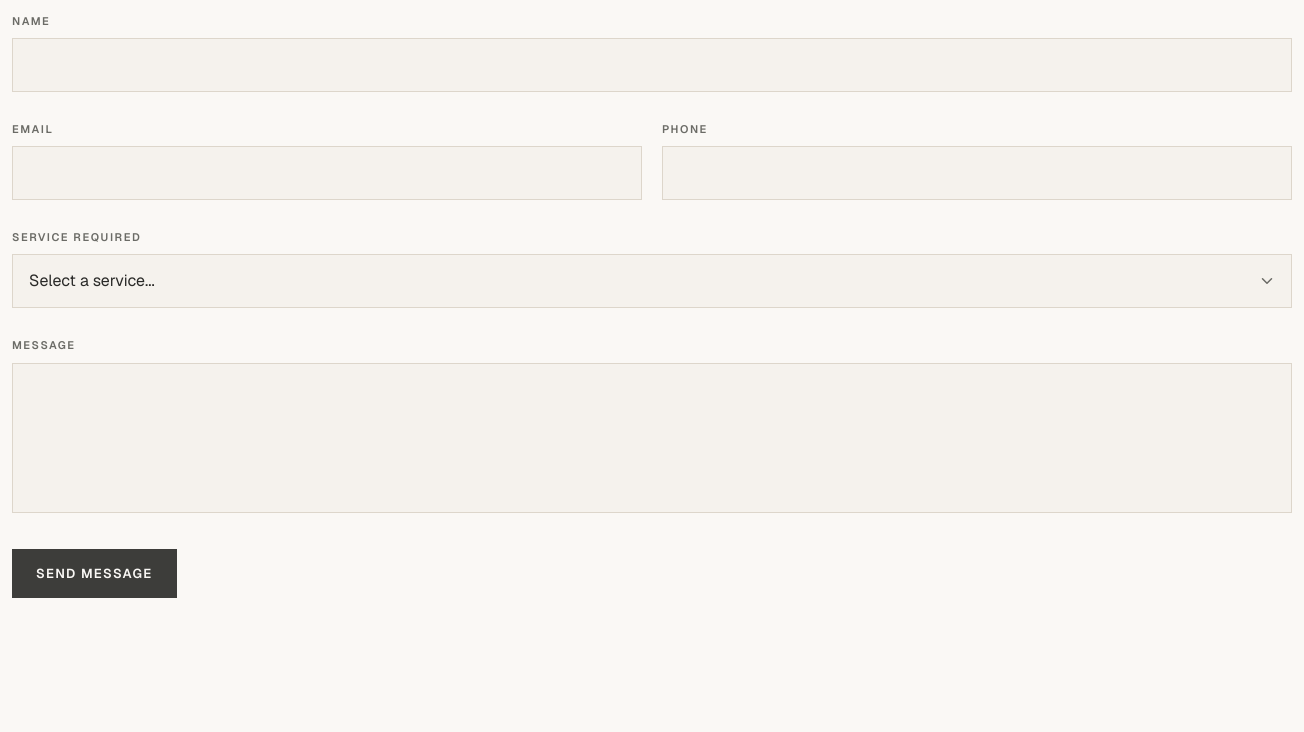
Test: ContactForm › shows success message after successful submit
The width and height of the screenshot is (1304, 732).
Type "Test User" into the field labelled "Name".
click(652, 65); type("Test User")  # box [12,38,1292,92]
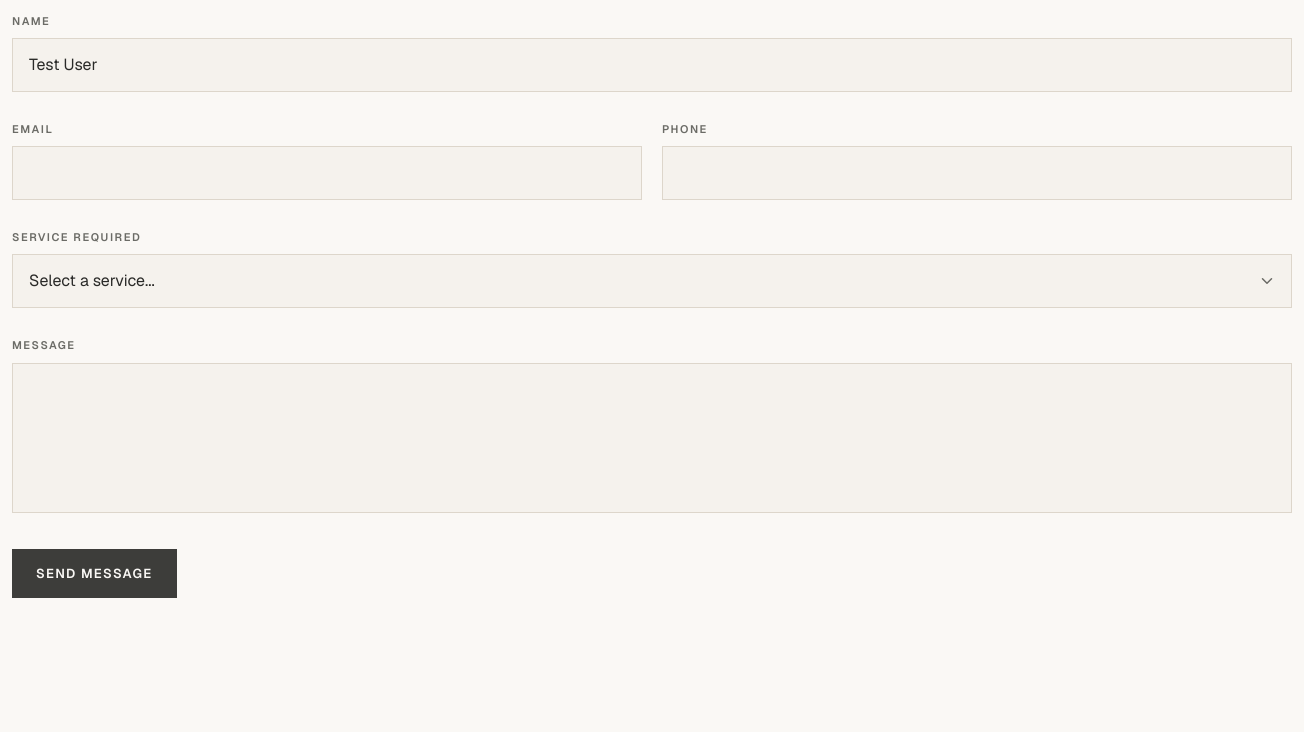
Type "test@example.com" into the field labelled "Email".
click(327, 173); type("test@example.com")  # box [12,146,642,200]
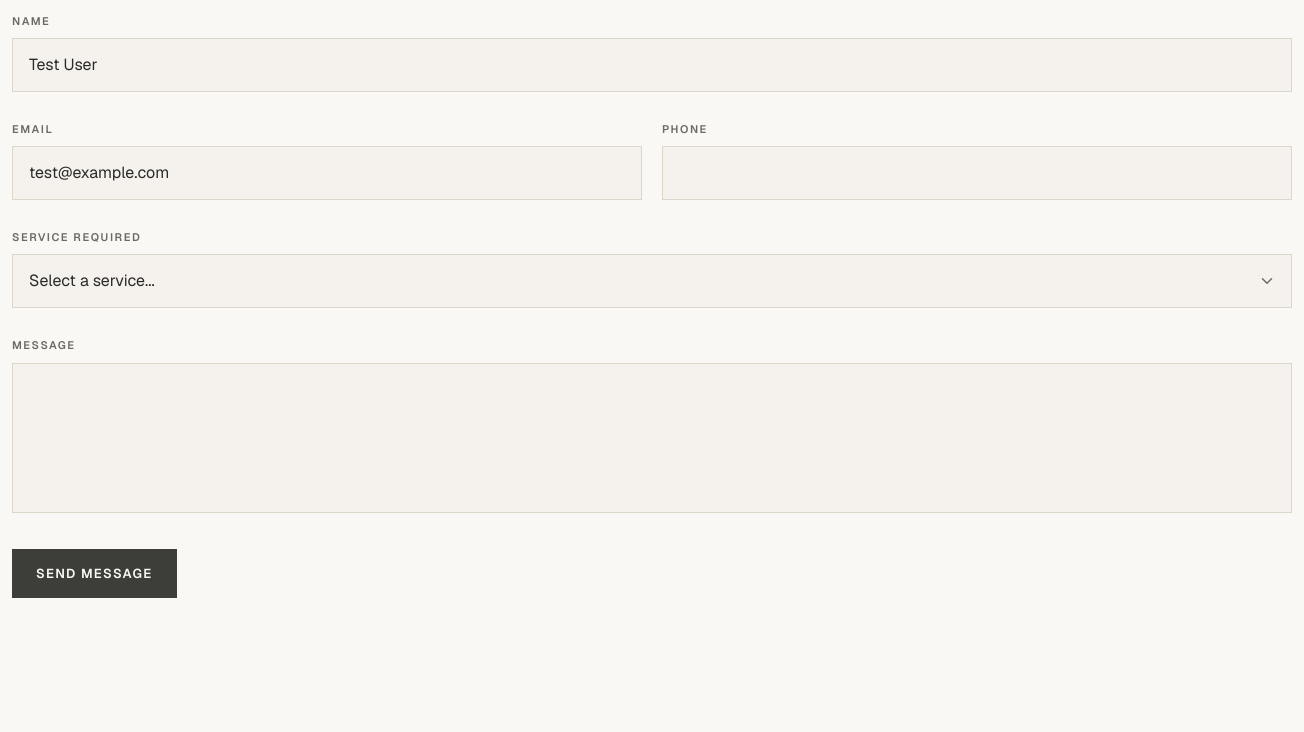
Select "residential" in the dropdown labelled "Service required" at (652, 281), box [12,254,1292,308]
Type "Hello" into the text box labelled "Message".
click(652, 438); type("Hello")  # box [12,363,1292,513]
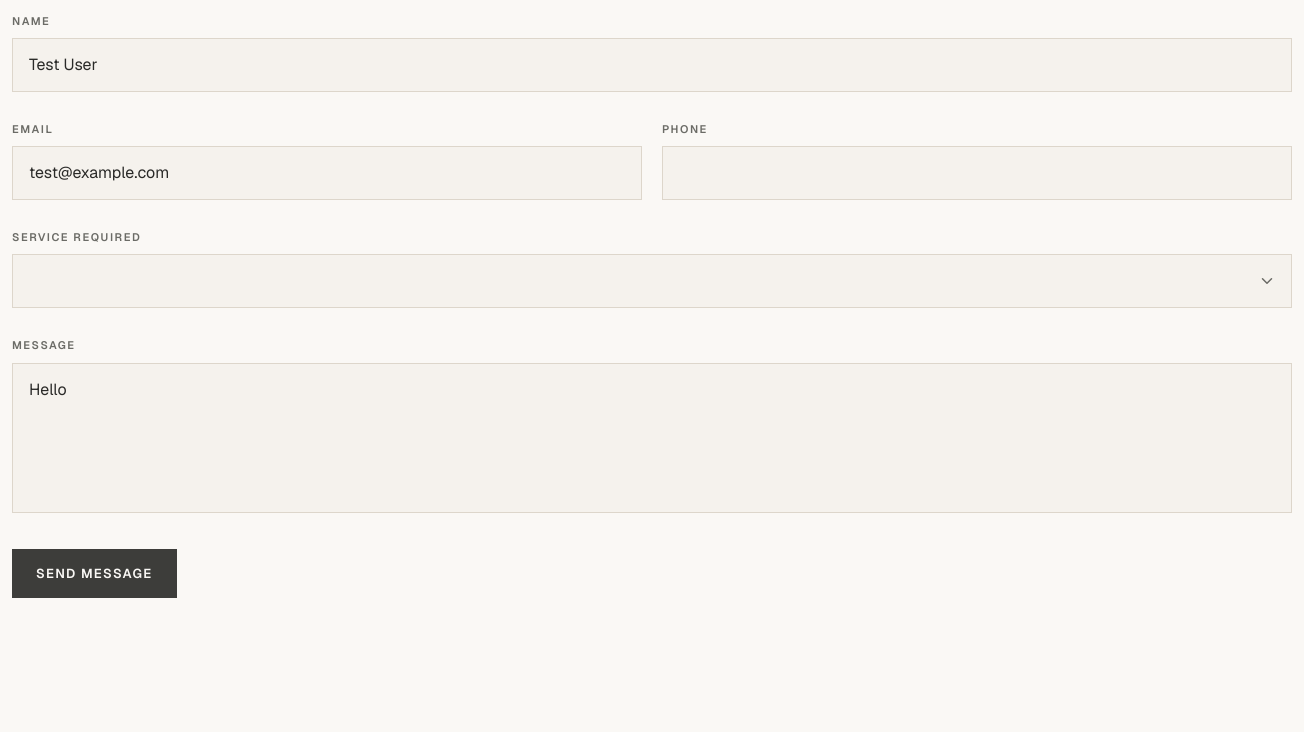
Submit the form
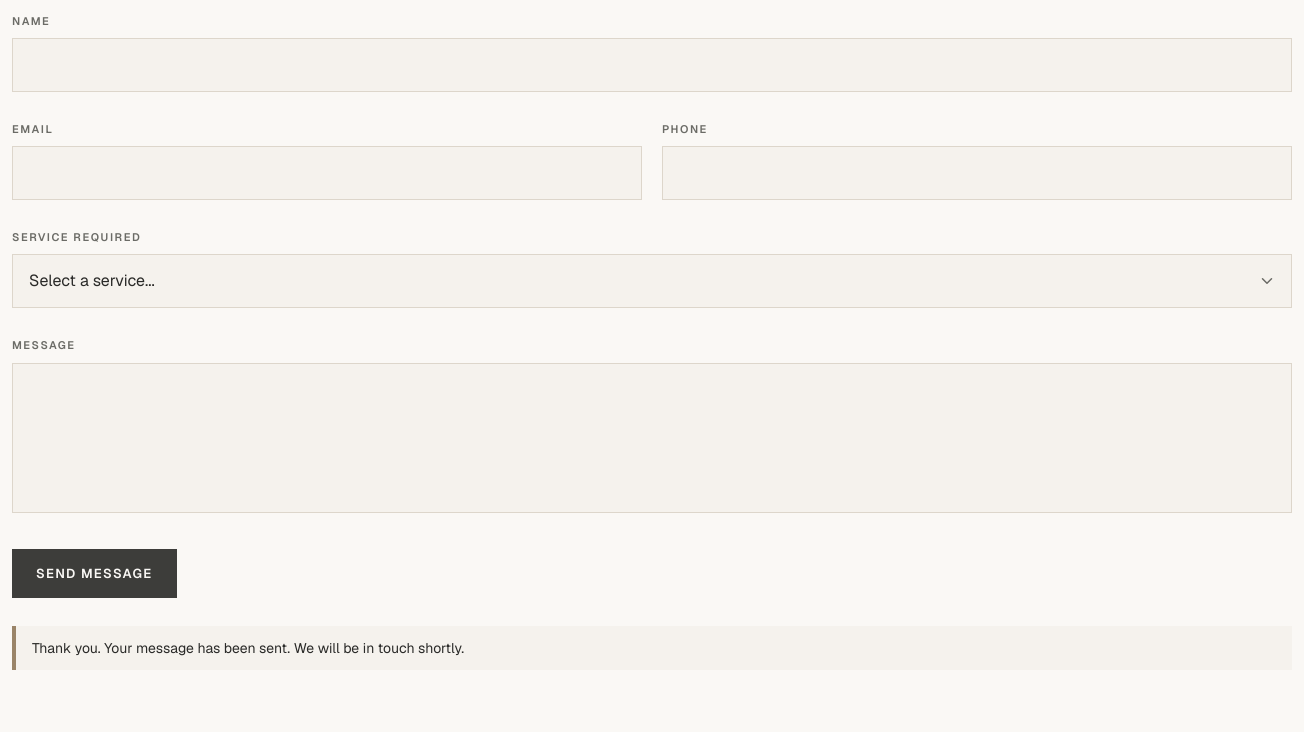
Check: the text "Thank you. Your message has been sent. We will be in touch shortly." is shown, box [12,626,1292,670]
